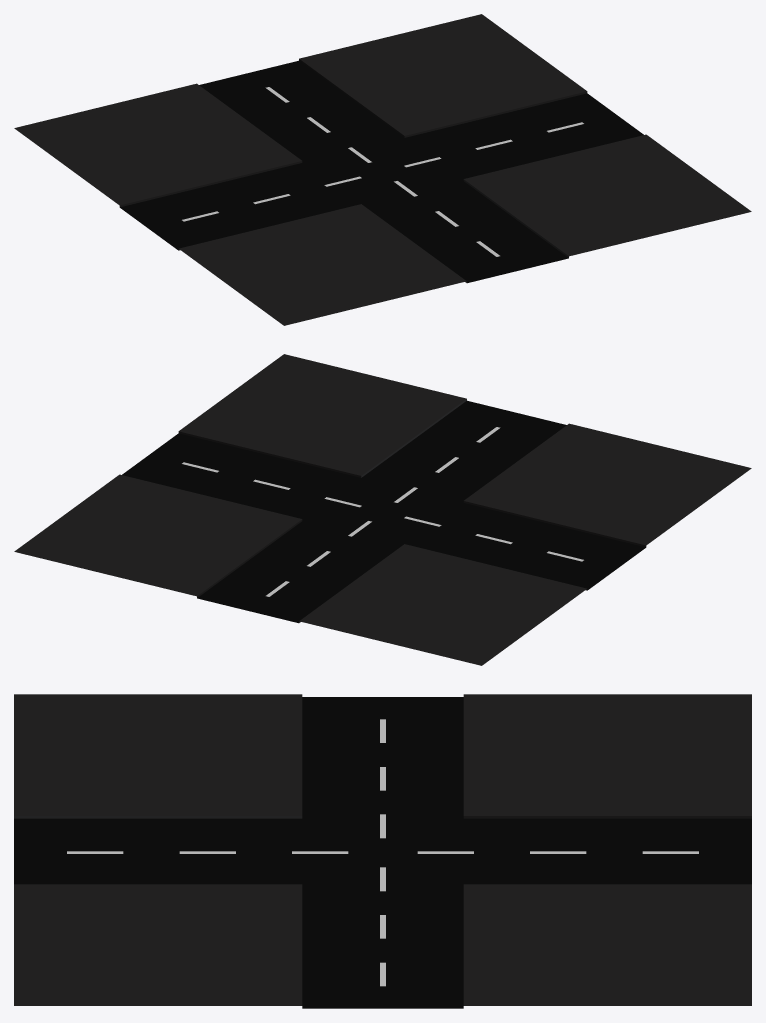
File: Street.003.fbx
3 renders of one model, top to bottom at view 1: azimuth 30°, elevation 25°; view 2: azimuth 150°, elevation 25°; view 3: azimuth 270°, elevation 25°, orthographic. The views are drawn at different scales.
Visible parts, largest first — view 1: Street.003; view 2: Street.003; view 3: Street.003.
Part boxes in pixels (box(x1,y1,x2,y2)): Street.003: box(14, 14, 751, 325); Street.003: box(14, 354, 751, 665); Street.003: box(14, 694, 751, 1008).
Bounding box in the file's own units: 65.27 × 0.2685 × 65.27.
